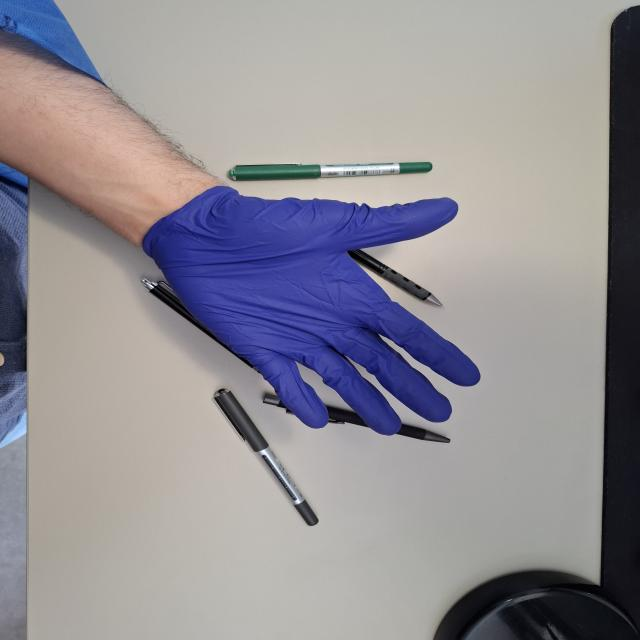glove_on: (138, 182, 484, 438)
